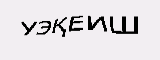Л: (44, 27, 56, 46)
М: (81, 30, 110, 55)
С: (32, 22, 45, 41)
Э: (111, 30, 130, 52)
Ю: (56, 29, 78, 50)
